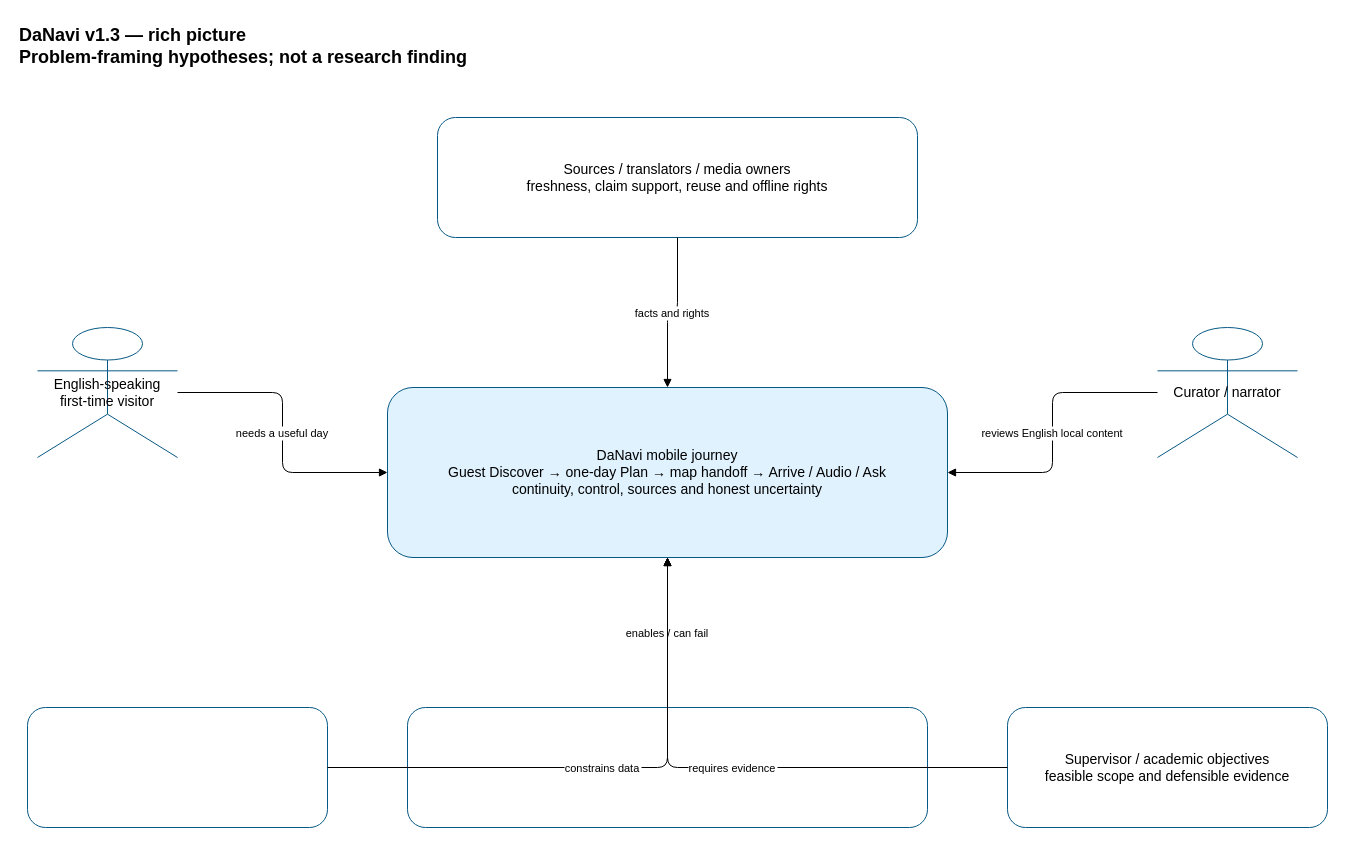
The diagram is 1354 pixels wide and 845 high, and some of its shapes have lost their labels. Here are the shapes that lost their labels. From the top down, the centre of each, then its label:
At pixel 177 767: "Privacy / consent / deletion minimal data, cache and retention".
At pixel 667 767: "Phone / Maps / AI / network cost, latency, weak GPS/network, foreground return".
